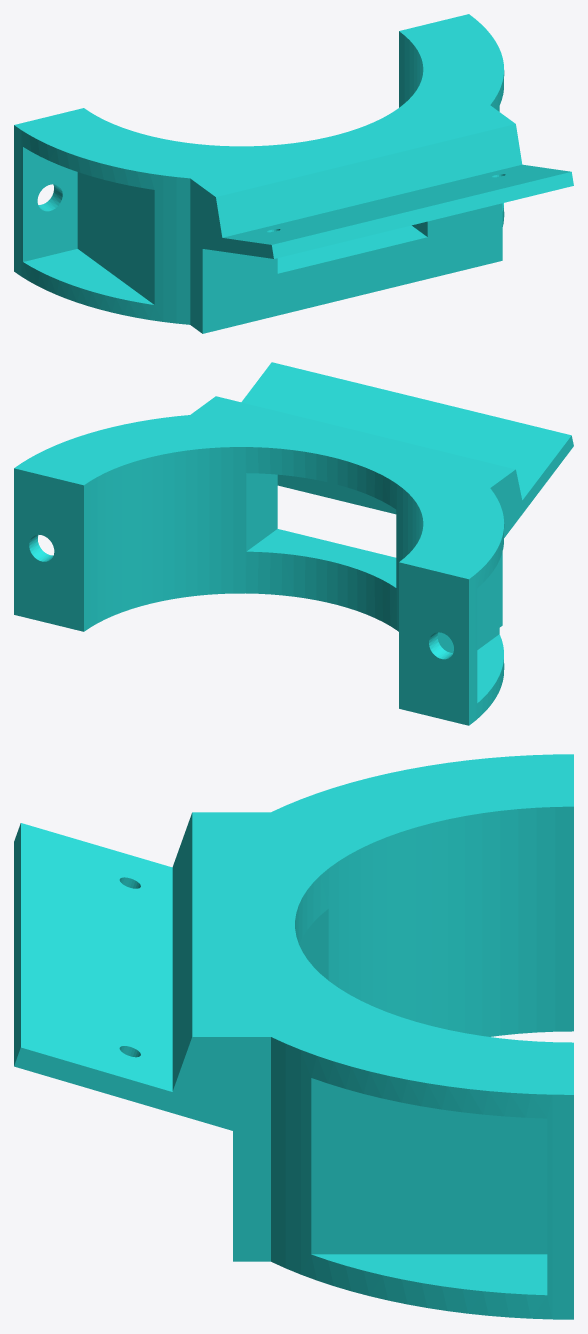
Rendered from UR3_camera_mount_rectangle.dae.
The picture shows the model from 3 angles, top to bottom: view 1: azimuth 30°, elevation 25°; view 2: azimuth 150°, elevation 25°; view 3: azimuth 270°, elevation 25°; orthographic projection. The views are drawn at different scales.
Visible parts, largest first — view 1: Ur3 Camera Mount Upper Rectangle; view 2: Ur3 Camera Mount Upper Rectangle; view 3: Ur3 Camera Mount Upper Rectangle.
Part boxes in pixels (<box>): Ur3 Camera Mount Upper Rectangle: <box>14,14,573,333</box>; Ur3 Camera Mount Upper Rectangle: <box>14,362,573,725</box>; Ur3 Camera Mount Upper Rectangle: <box>14,754,573,1319</box>.
Bounding box in the file's own units: 0.091 × 0.0632 × 0.028.
